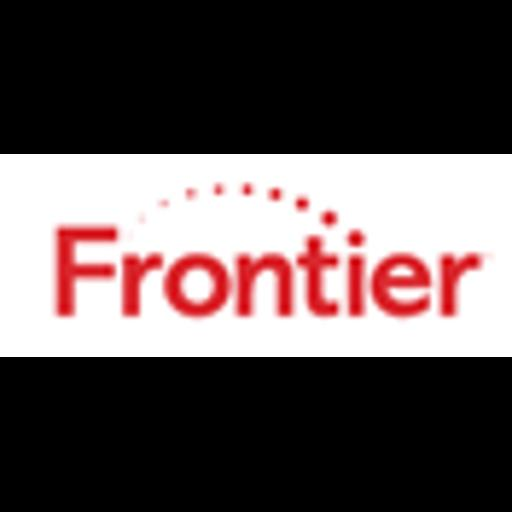Frontier Communications: (0, 154, 512, 357)
